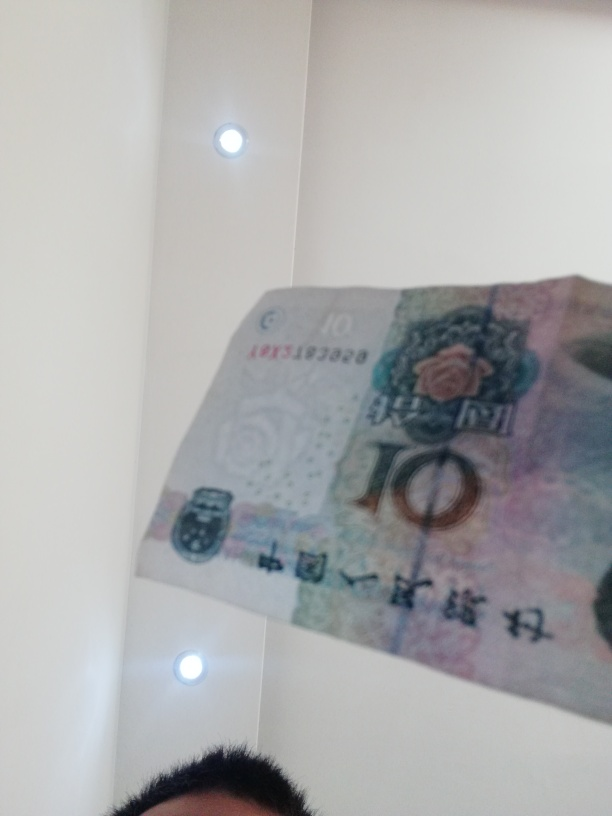rmb: (142, 286, 612, 723)
